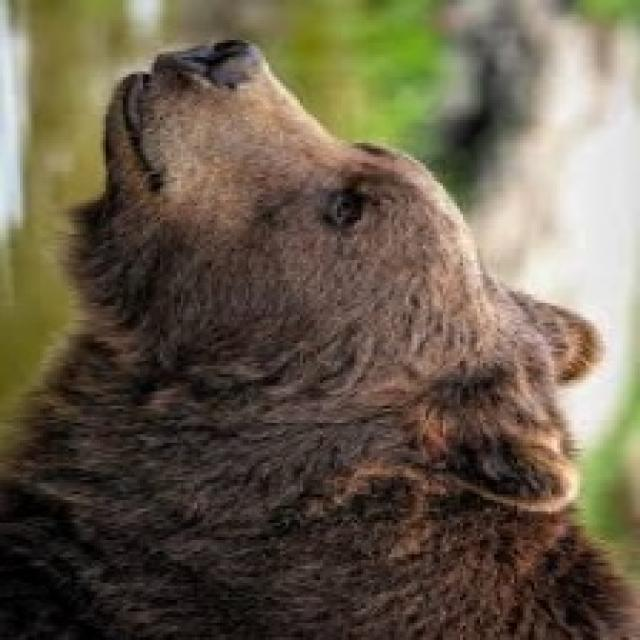animal: (60, 38, 573, 608)
